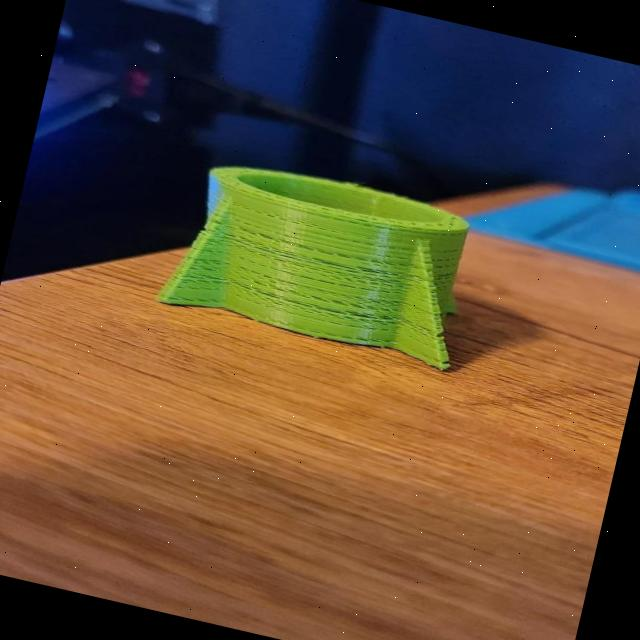cracks: (176, 200, 461, 362)
